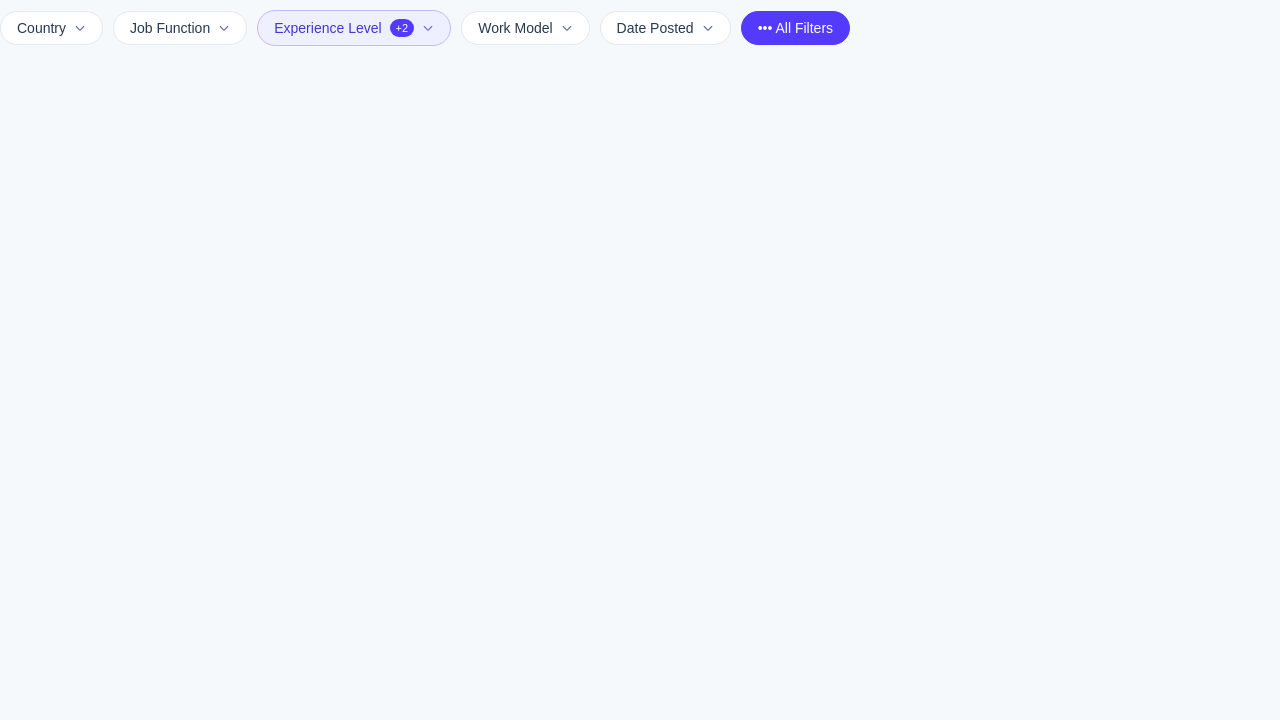
JobFilterBar job functions › lists the 20 career families by label
The image size is (1280, 720).
Step 1. Click the button "Job Function" → {"x": 180, "y": 28}, box [113, 11, 247, 45]
(page scrolled)
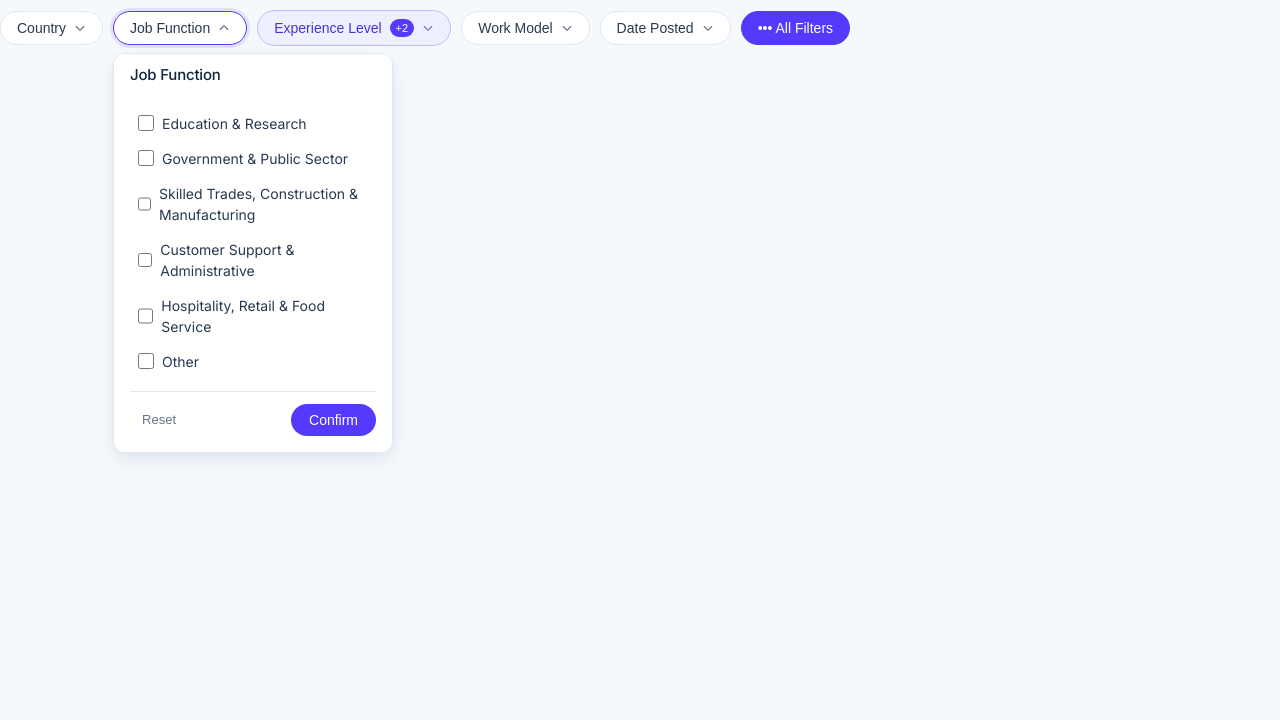
Expected: the label "Other" is shown, [138, 352, 199, 370]
